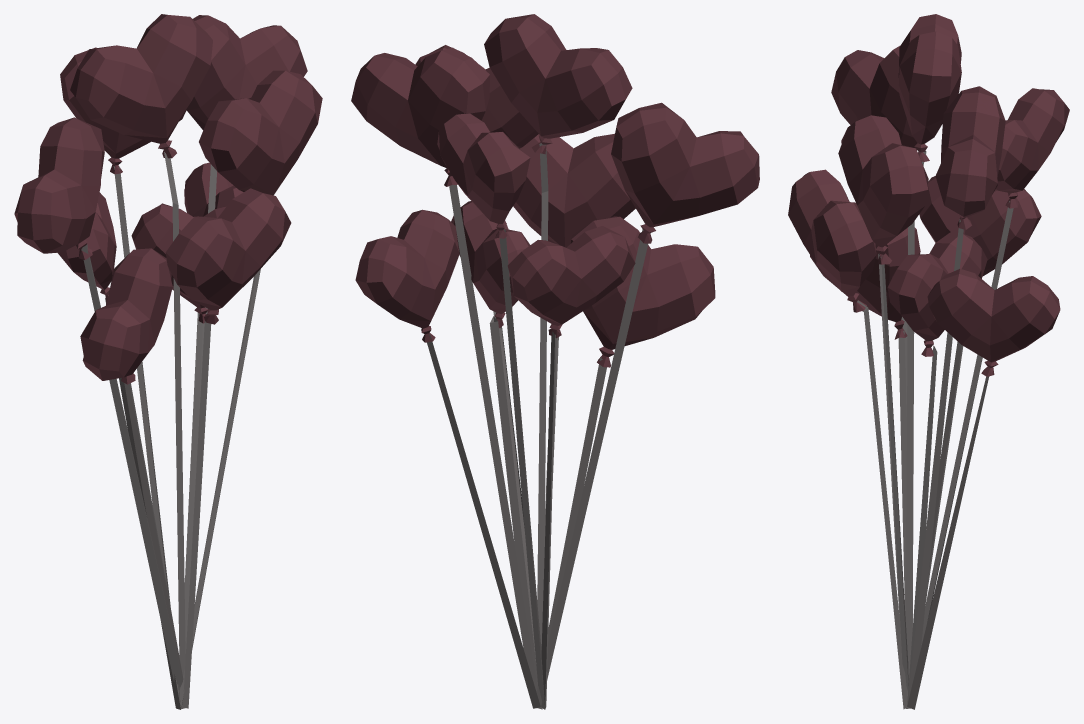
File: balloons-hearts-lots.fbx
3 renders of one model, left to right at view 1: azimuth 30°, elevation 25°; view 2: azimuth 150°, elevation 25°; view 3: azimuth 270°, elevation 25°, orthographic. The views are drawn at different scales.
Parts seen in each view (by area): view 1: balloons-hearts-lots; view 2: balloons-hearts-lots; view 3: balloons-hearts-lots.
Boxes of the visible parts, box(x1,y1,x2,y2) form: balloons-hearts-lots: box(14, 14, 322, 709); balloons-hearts-lots: box(351, 14, 759, 709); balloons-hearts-lots: box(788, 14, 1069, 709).
Bounding box in the file's own units: 1.13 × 2.19 × 0.8241.
